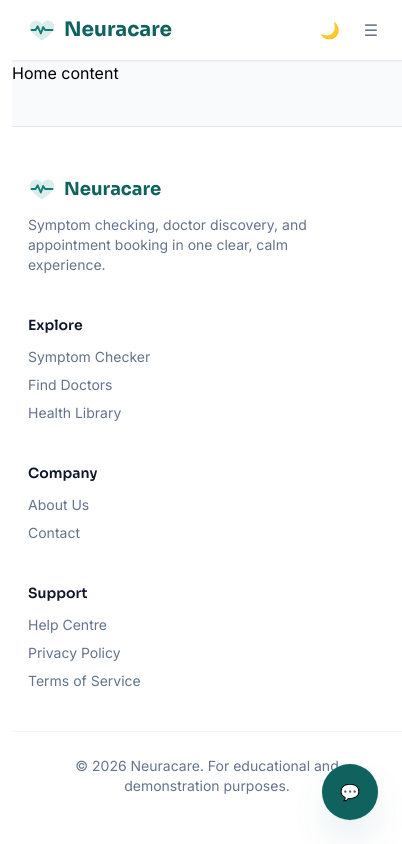
Layout › when authenticated › lists all nav items plus account actions in the mobile menu
The width and height of the screenshot is (402, 844).
Click the button named "open menu": (371, 30) [356,10,386,50]
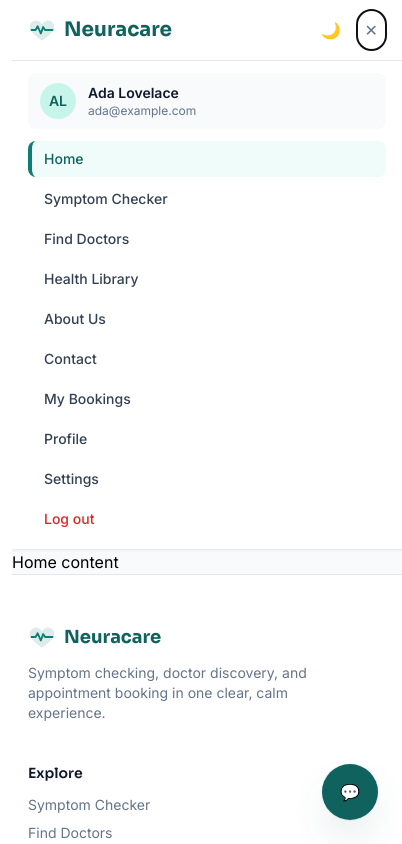
expect the link "Profile" is shown: met, box [44,430,87,447]
expect the link "Settings" is shown: met, box [44,470,99,487]
expect the button "Log out" is shown: met, box [28,501,386,537]
